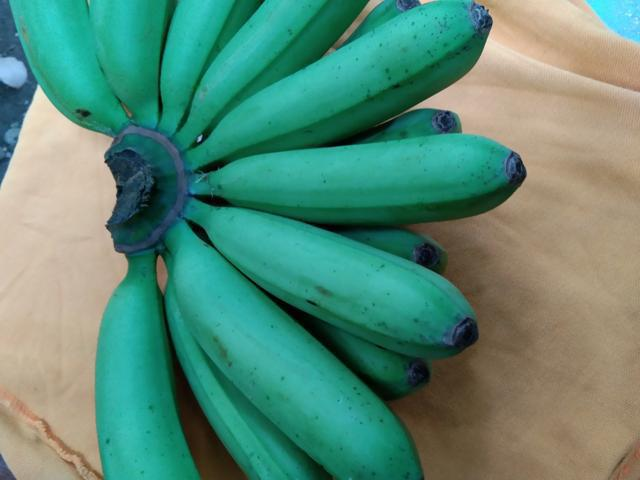freshunripe: (166, 235, 420, 479), (195, 0, 519, 169), (205, 204, 488, 366), (210, 130, 532, 227), (75, 267, 210, 479), (179, 0, 381, 134), (144, 0, 258, 126), (83, 0, 171, 106)
unripe: (2, 0, 132, 146)
